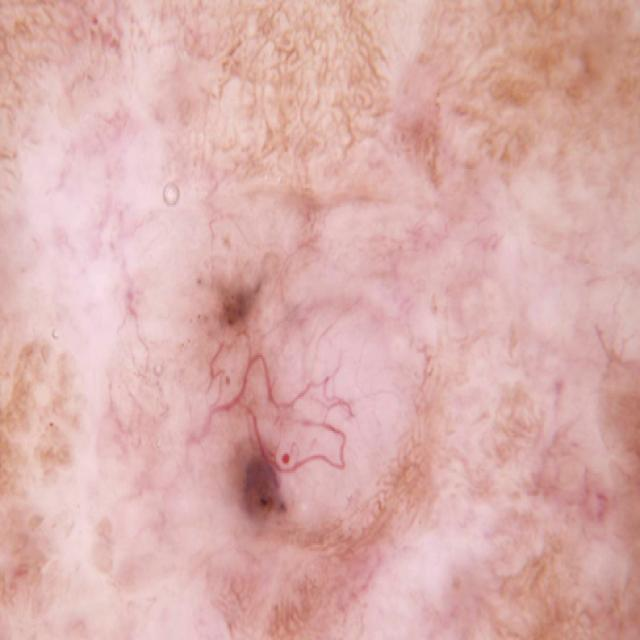Carcinoma: (158, 215, 431, 632)
